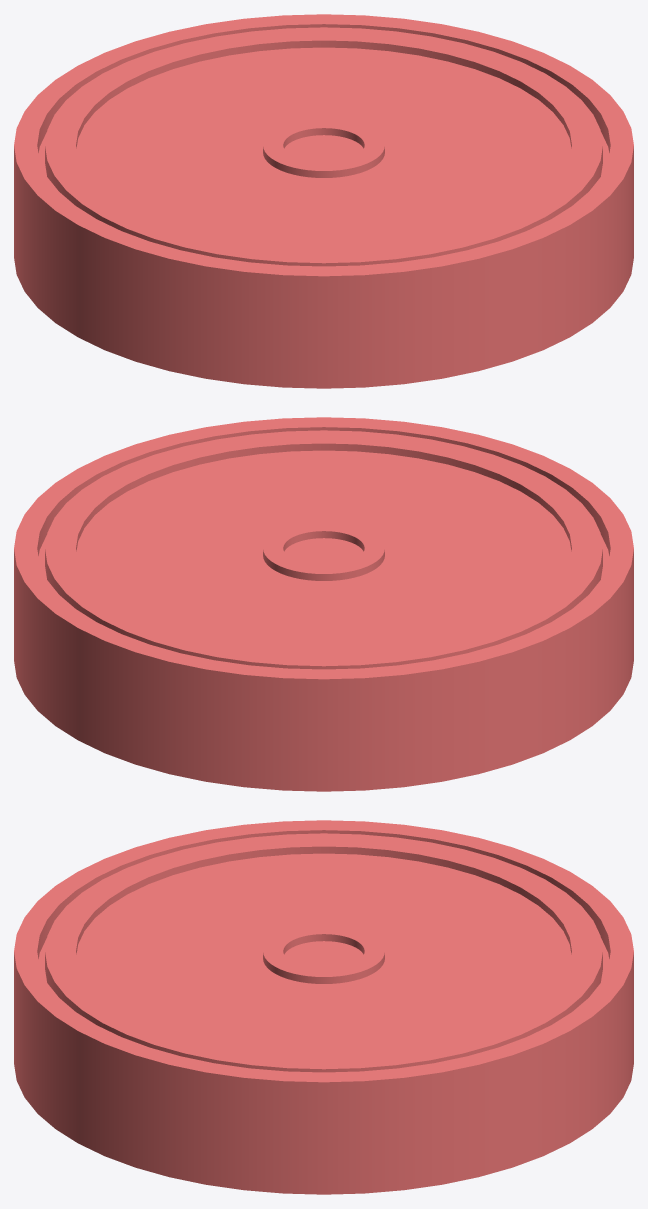
The picture shows the model from 3 angles, top to bottom: view 1: azimuth 30°, elevation 25°; view 2: azimuth 150°, elevation 25°; view 3: azimuth 270°, elevation 25°; orthographic projection.
Visible parts, largest first — view 1: 18603.dat, 18602.dat; view 2: 18603.dat, 18602.dat; view 3: 18603.dat, 18602.dat.
Boxes of the visible parts, x1=… form: 18603.dat: x1=38, y1=27, x2=609, y2=266; 18602.dat: x1=14, y1=14, x2=633, y2=388; 18603.dat: x1=38, y1=430, x2=609, y2=669; 18602.dat: x1=14, y1=417, x2=633, y2=791; 18603.dat: x1=38, y1=833, x2=609, y2=1072; 18602.dat: x1=14, y1=820, x2=633, y2=1194.
Size of the model in its own units: 0.56 by 0.14 by 0.56.
